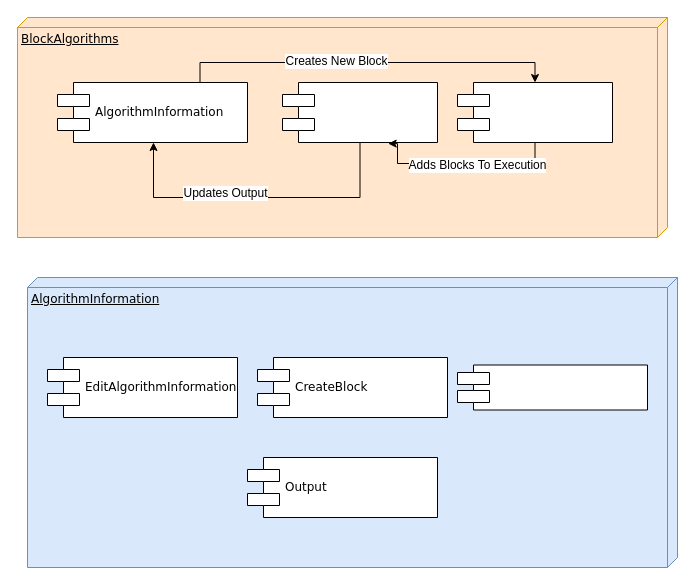
Some shapes in this 695 by 585 pixel diagram are drawn without their labels. Each missing label, with the centre of its shape:
"BlockList" goes at point 534,112.
"BlockSequence" goes at point 360,112.
"Save/Load Algortihm" goes at point 552,387.
